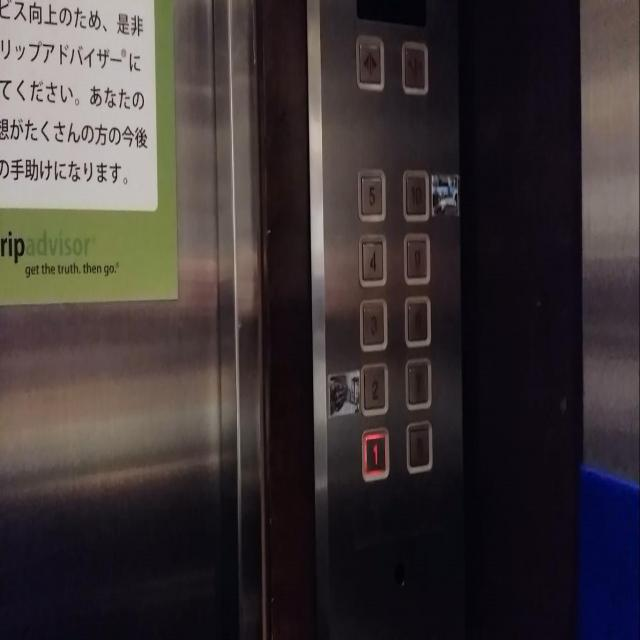1: (362, 425, 390, 482)
10: (403, 170, 429, 222)
2: (361, 362, 389, 416)
3: (359, 298, 387, 350)
4: (359, 233, 387, 287)
5: (358, 166, 386, 222)
6: (405, 421, 433, 474)
7: (403, 358, 432, 412)
8: (404, 296, 431, 346)
9: (404, 232, 429, 286)
close: (401, 40, 428, 94)
open: (355, 32, 384, 91)
